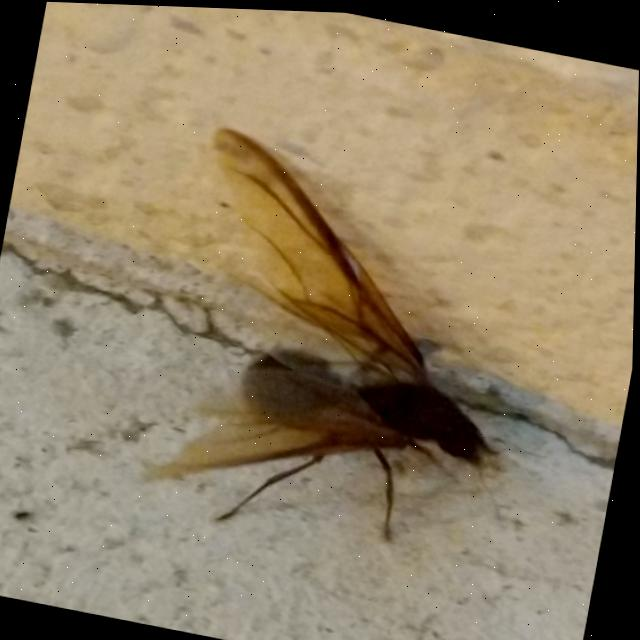Alive-Female-Alate: (143, 122, 596, 581)
